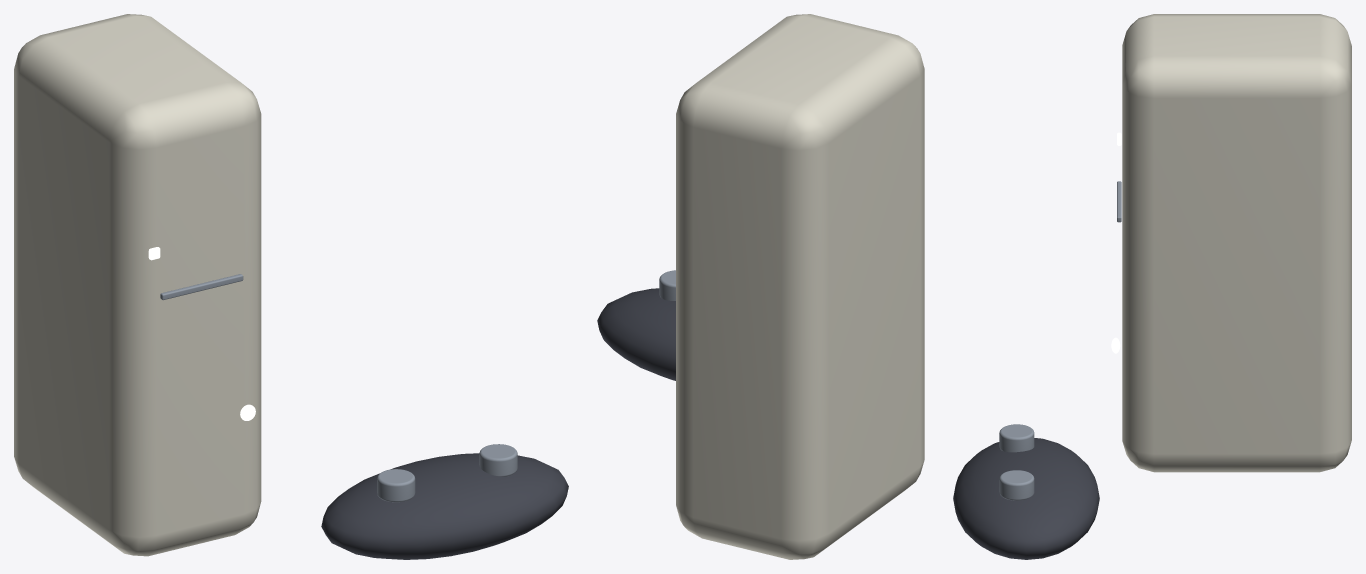
The model's file is consoleWii.glb.
The picture shows the model from 3 angles, left to right: view 1: azimuth 30°, elevation 25°; view 2: azimuth 150°, elevation 25°; view 3: azimuth 270°, elevation 25°; orthographic projection. The views are drawn at different scales.
Visible parts, largest first — view 1: Console housing, Controller, Controller stick, Controller stick.001, Disc slot; view 2: Console housing, Controller, Controller stick.001; view 3: Console housing, Controller, Controller stick.001, Controller stick.
Part boxes in pixels (x1=…): Console housing: x1=14, y1=14, x2=261, y2=556; Controller: x1=321, y1=453, x2=568, y2=559; Controller stick: x1=377, y1=469, x2=415, y2=502; Controller stick.001: x1=479, y1=444, x2=517, y2=476; Disc slot: x1=160, y1=274, x2=243, y2=300; Console housing: x1=676, y1=14, x2=924, y2=559; Controller: x1=597, y1=288, x2=675, y2=380; Controller stick.001: x1=659, y1=270, x2=675, y2=300; Console housing: x1=1122, y1=14, x2=1351, y2=472; Controller: x1=953, y1=438, x2=1099, y2=559; Controller stick.001: x1=999, y1=470, x2=1034, y2=500; Controller stick: x1=999, y1=424, x2=1034, y2=452.
Size of the model in its own units: 1.27 by 1.43 by 1.25.
